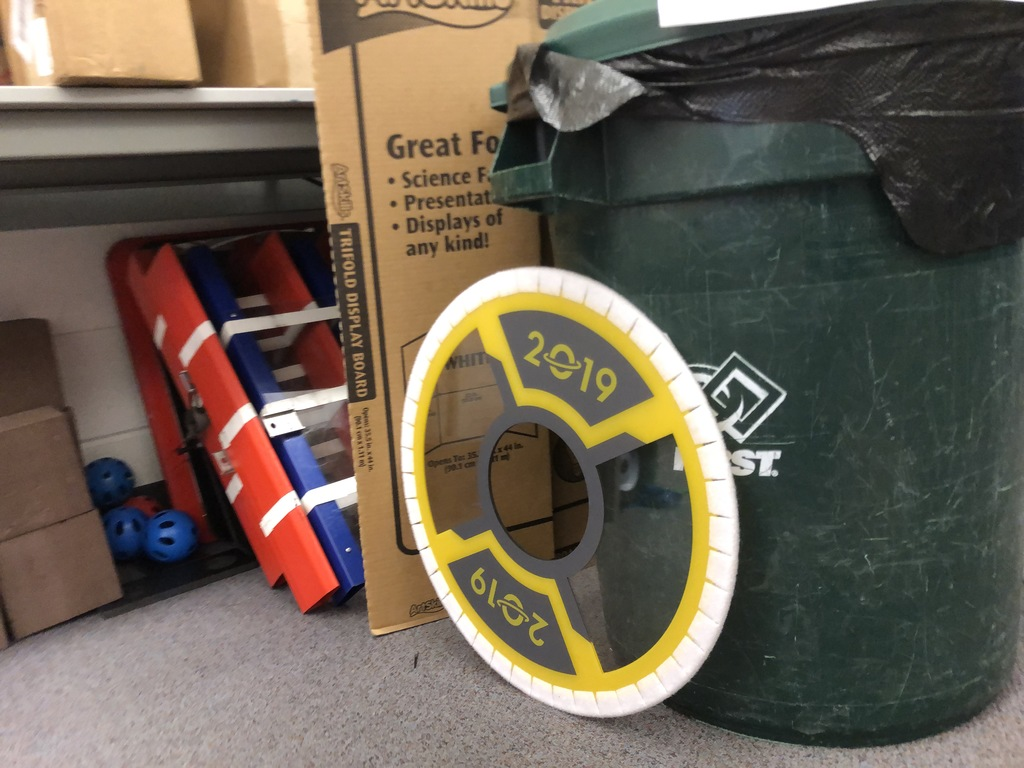hatch_panel: (391, 256, 754, 726)
